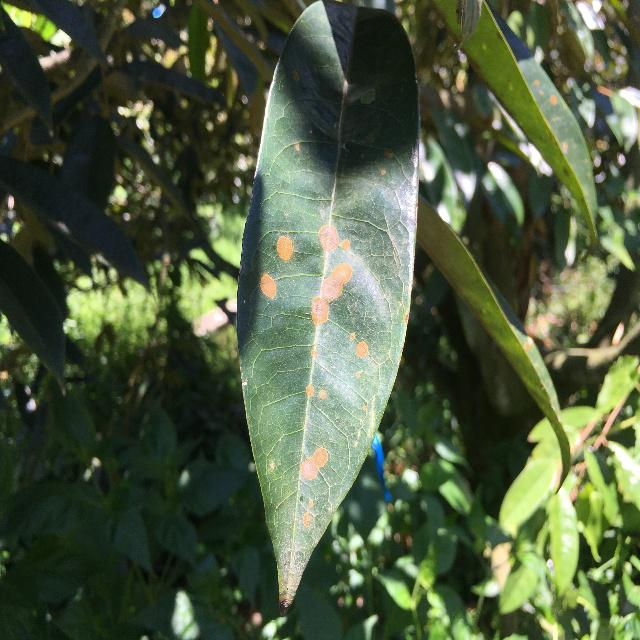Algal Leaf Spot: (231, 0, 431, 615)
